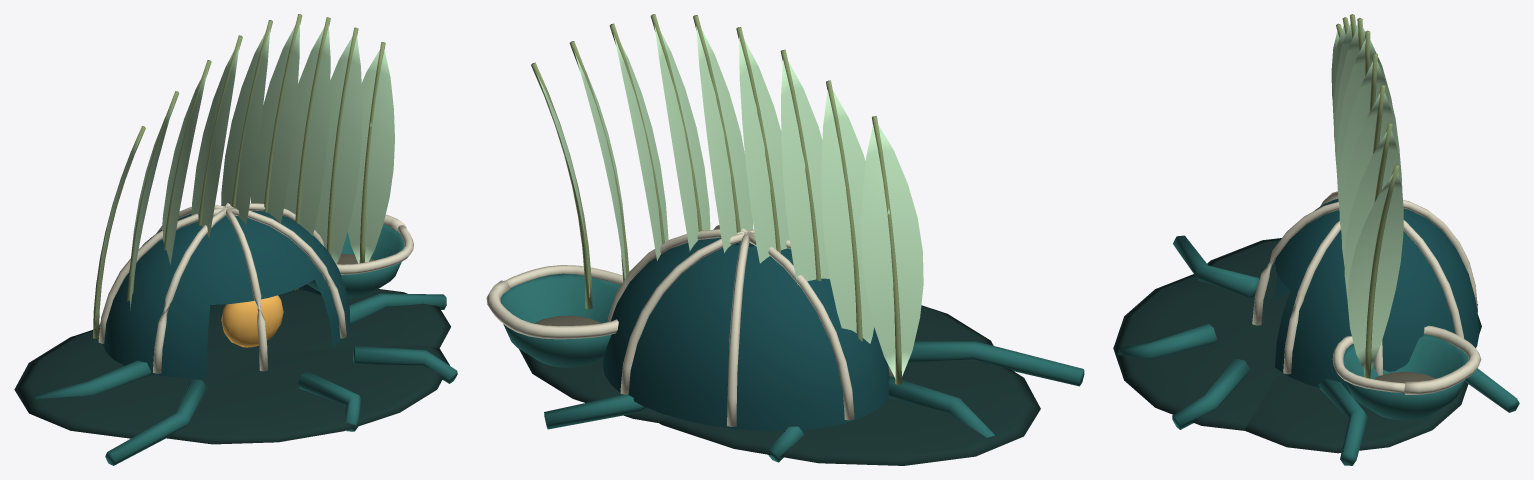
File: building_filter_crown_a.obj
3 views of the same model, side by side, from view 1: azimuth 30°, elevation 25°; view 2: azimuth 150°, elevation 25°; view 3: azimuth 270°, elevation 25° (orthographic). The views are drawn at different scales.
Parts seen in each view (by area): view 1: inhabited_shell.020, irregular_anchoring_lobe.071, irregular_anchoring_lobe.069, irregular_anchoring_lobe.070, bent_living_blade.074, bent_living_blade.075, bent_living_blade.073, bent_living_blade.072, bent_living_blade.071, bent_living_blade.070, bent_living_blade.069, warm_occupied_cavity.020 (+22 smaller); view 2: inhabited_shell.020, irregular_anchoring_lobe.069, bent_living_blade.067, bent_living_blade.068, open_living_cup.070, bent_living_blade.069, bent_living_blade.070, bent_living_blade.071, bent_living_blade.072, anchoring_root.165, grown_cup_lip.070, bent_living_blade.073 (+20 smaller); view 3: inhabited_shell.020, irregular_anchoring_lobe.071, irregular_anchoring_lobe.070, bent_living_blade.075, open_living_cup.070, grown_cup_lip.070, bent_living_blade.074, bent_living_blade.073, irregular_anchoring_lobe.069, bent_living_blade.072, anchoring_root.165, anchoring_root.161 (+13 smaller).
Boxes of the visible parts, x1,y1,x2,y2 form: inhabited_shell.020: (103,210,350,378); irregular_anchoring_lobe.071: (166,345,449,444); irregular_anchoring_lobe.069: (14,316,271,438); irregular_anchoring_lobe.070: (209,289,450,353); bent_living_blade.074: (314,36,362,263); bent_living_blade.075: (347,49,394,263); bent_living_blade.073: (284,25,330,235); bent_living_blade.072: (251,23,299,223); bent_living_blade.071: (221,29,270,224); bent_living_blade.070: (191,45,239,237); bent_living_blade.069: (162,69,207,265); warm_occupied_cavity.020: (221,295,283,347); inhabited_shell.020: (602,237,889,431); irregular_anchoring_lobe.069: (659,360,1040,465); bent_living_blade.067: (861,125,923,378); bent_living_blade.068: (821,90,874,343); open_living_cup.070: (500,273,620,367); bent_living_blade.069: (781,60,829,284); bent_living_blade.070: (739,37,789,263); bent_living_blade.071: (696,26,752,252); bent_living_blade.072: (654,25,710,251); anchoring_root.165: (908,341,1084,386); grown_cup_lip.070: (486,265,623,339); bent_living_blade.073: (614,35,668,260); inhabited_shell.020: (1275,199,1479,392); irregular_anchoring_lobe.071: (1113,274,1281,430); irregular_anchoring_lobe.070: (1245,372,1468,453); bent_living_blade.075: (1347,172,1403,372); open_living_cup.070: (1343,334,1468,420); grown_cup_lip.070: (1332,325,1481,394); bent_living_blade.074: (1344,131,1402,299); bent_living_blade.073: (1341,93,1401,266); irregular_anchoring_lobe.069: (1207,238,1481,333); bent_living_blade.072: (1338,61,1399,232); anchoring_root.165: (1173,235,1259,297); anchoring_root.161: (1318,378,1367,465).
Size of the model in its own units: 3.59 by 2.61 by 2.73.
